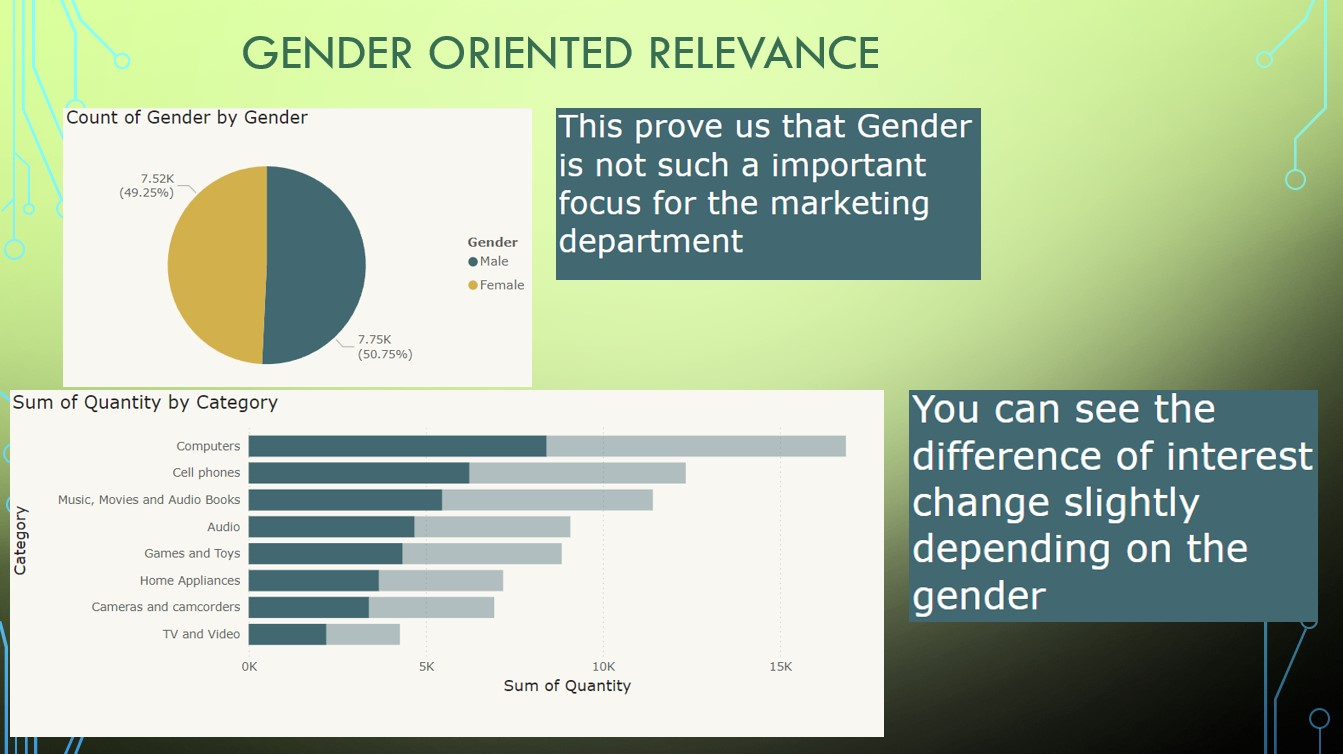

The page's visual inventory and layout, read from the dashboard file:
{"tool":"powerbi","page":{"name":"Relevence of Gender","canvas":[1280,720],"ordinal":2},"visuals":[{"type":"pieChart","fields":{"Category":["Customers.Gender"],"Y":["CountNonNull(Customers.Gender)"]},"box":[0,0,510.1,318.7],"z":0},{"type":"shape","box":[510.1,22.8,443.4,190.5],"z":500},{"type":"textbox","box":[510.1,22.8,443.4,183.5],"z":1000},{"type":"barChart","fields":{"Category":["Products.Category","Customers.Gender"],"Y":["Sum(Sales.Quantity)"]},"box":[0,329.3,923.7,318.7],"z":2000},{"type":"shape","box":[924.6,329.3,355.6,205.5],"z":2500},{"type":"textbox","box":[934.2,329.3,346,204.6],"z":3000}]}

Visuals, with their boxes in screenshot pixels (x1, y1, x2, y2), scaled from the page's 1280x720 canvas onto the 1343x754 screenshot:
pieChart - Customers.Gender x CountNonNull(Customers.Gender): x1=0 y1=0 x2=535 y2=334
shape: x1=535 y1=24 x2=1000 y2=223
textbox: x1=535 y1=24 x2=1000 y2=216
barChart - Products.Category x Customers.Gender: x1=0 y1=345 x2=969 y2=679
shape: x1=970 y1=345 x2=1342 y2=560
textbox: x1=980 y1=345 x2=1342 y2=559
